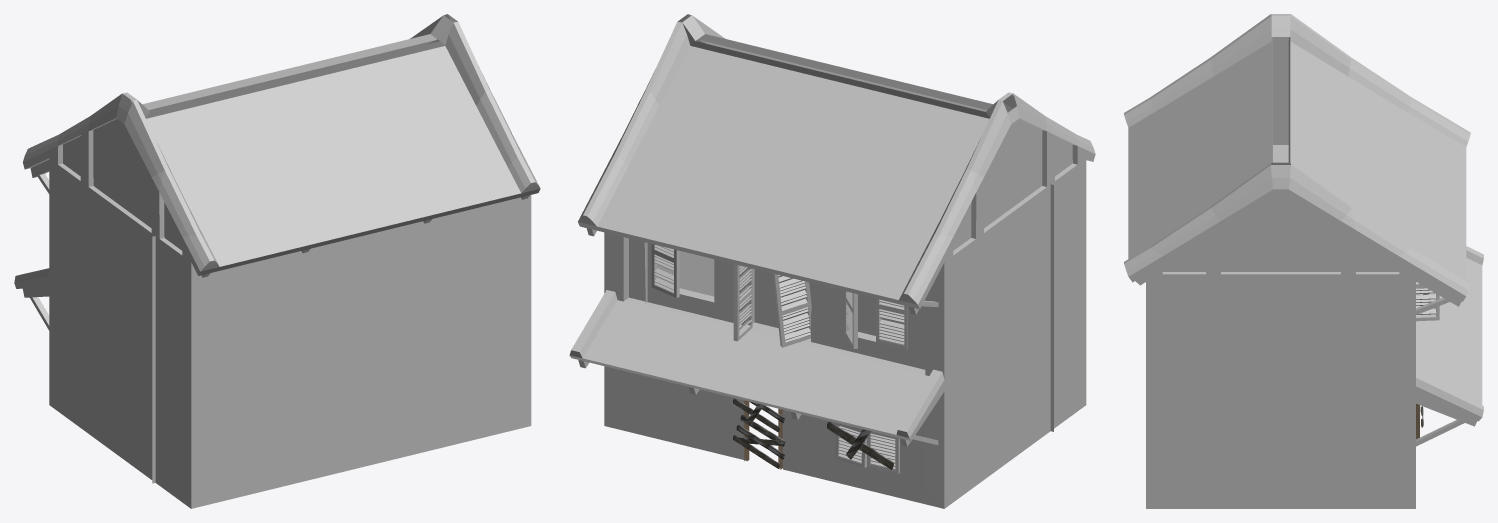
Rendered from Small_House.FBX.
The picture shows the model from 3 angles, left to right: view 1: azimuth 30°, elevation 25°; view 2: azimuth 150°, elevation 25°; view 3: azimuth 270°, elevation 25°; orthographic projection. The views are drawn at different scales.
Visible parts, largest first — view 1: Keo; view 2: Keo, Old_DoorPlank_002; view 3: Keo.
Boxes of the visible parts, <box> form: Keo: <box>14,14,540,508</box>; Keo: <box>569,14,1095,508</box>; Old_DoorPlank_002: <box>733,398,898,469</box>; Keo: <box>1124,14,1483,508</box>.
Bounding box in the file's own units: 46.9 × 46.77 × 44.72.
